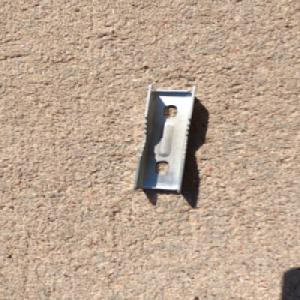ClampPart: (131, 83, 198, 194)
